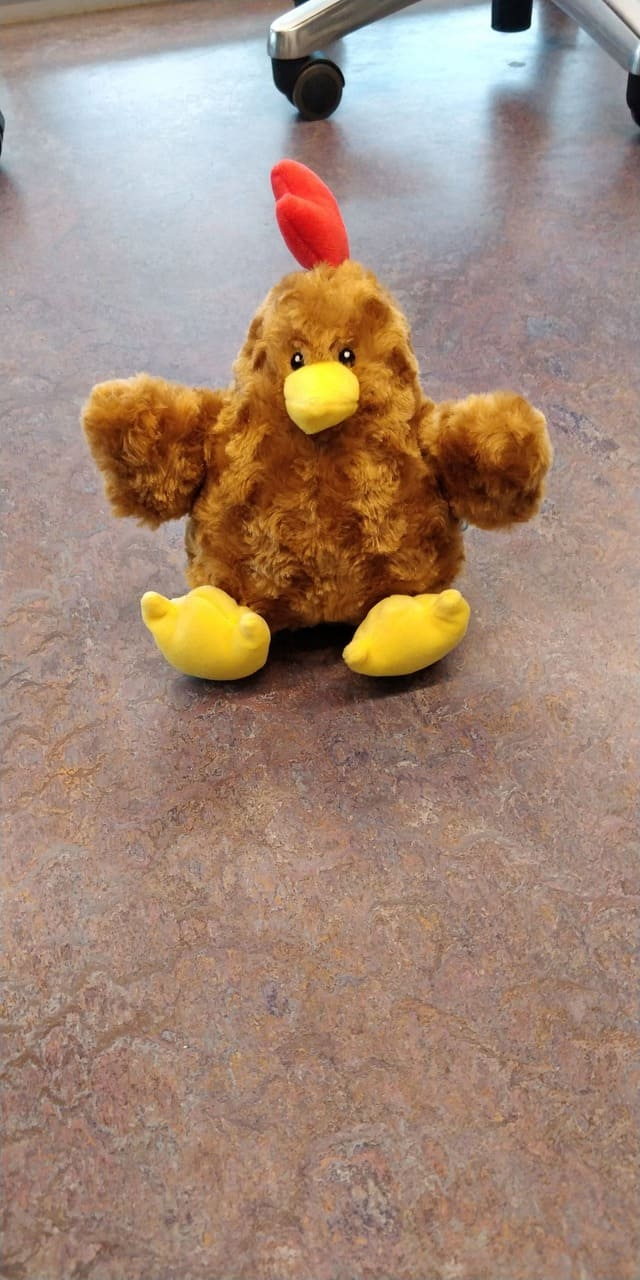fakeChicken: (79, 160, 551, 682)
